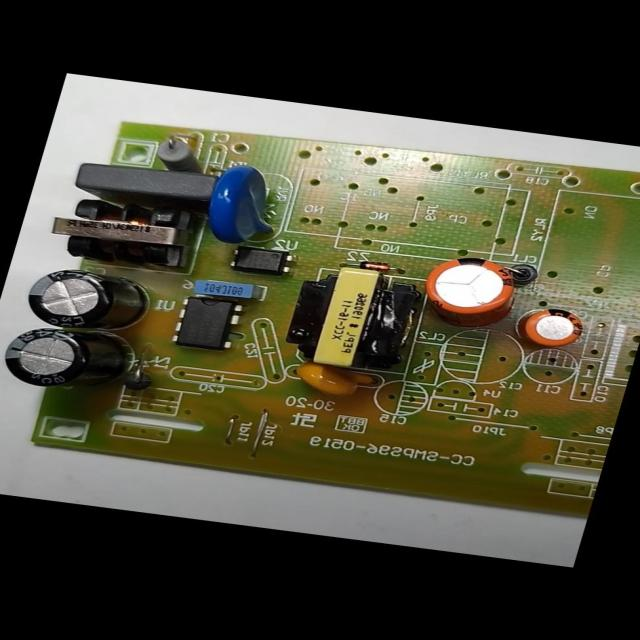Cap1: (417, 250, 524, 328)
Cap2: (518, 303, 587, 348)
Cap3: (17, 262, 152, 337)
Cap4: (0, 318, 146, 399)
MOSFET: (166, 293, 246, 353)
Mov: (196, 162, 296, 250)
Resistor: (146, 133, 213, 177)
Transformer: (278, 258, 424, 374), (41, 189, 206, 273)
